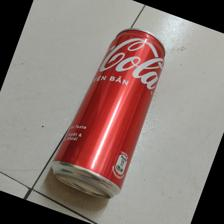Coca: (53, 28, 167, 201)
